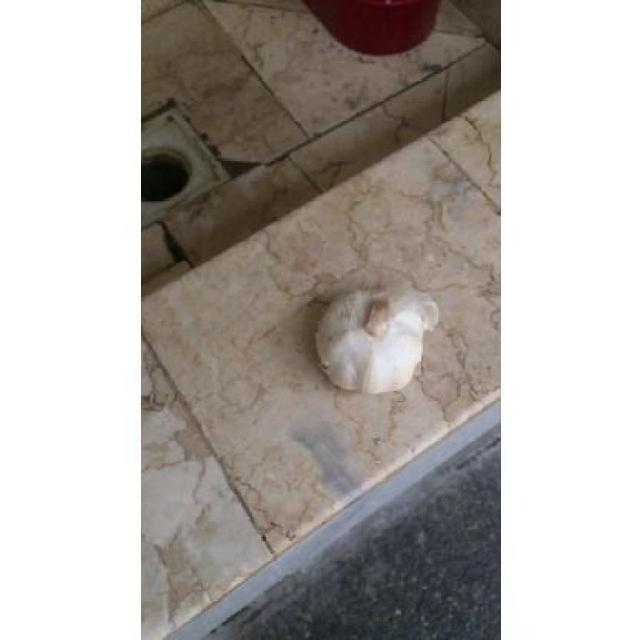garlic: (316, 288, 439, 393)
